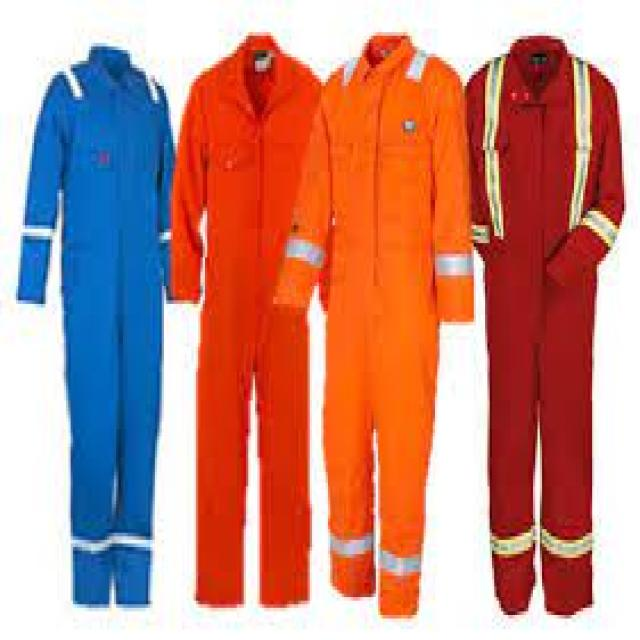vest: (271, 35, 471, 602), (466, 34, 630, 619), (12, 42, 174, 606), (176, 33, 330, 608)
